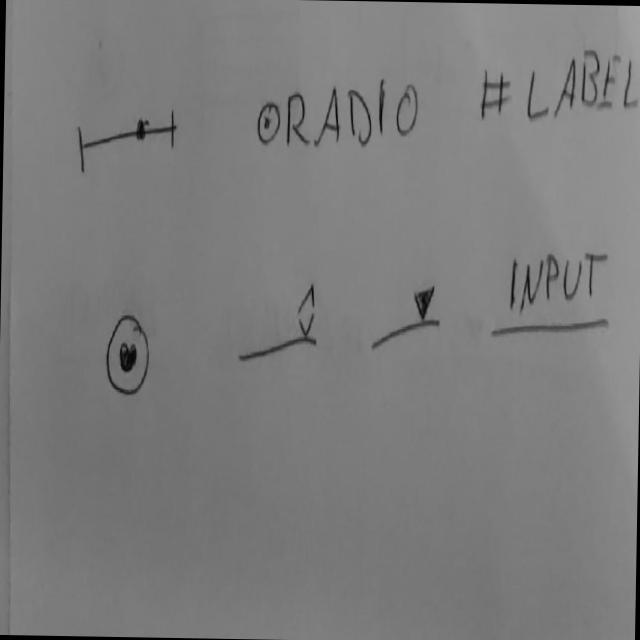icon-button: (104, 311, 153, 400)
input: (488, 248, 615, 345)
label: (479, 44, 640, 130)
number-input: (237, 279, 322, 370)
radio: (256, 96, 283, 150)
select: (368, 279, 444, 358)
slider: (74, 105, 179, 178)
